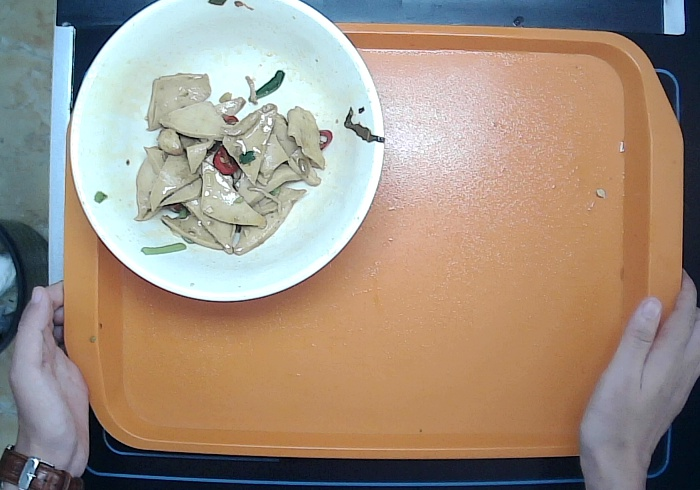ZNLD-Da_Tang_Wan: (58, 1, 382, 312)
